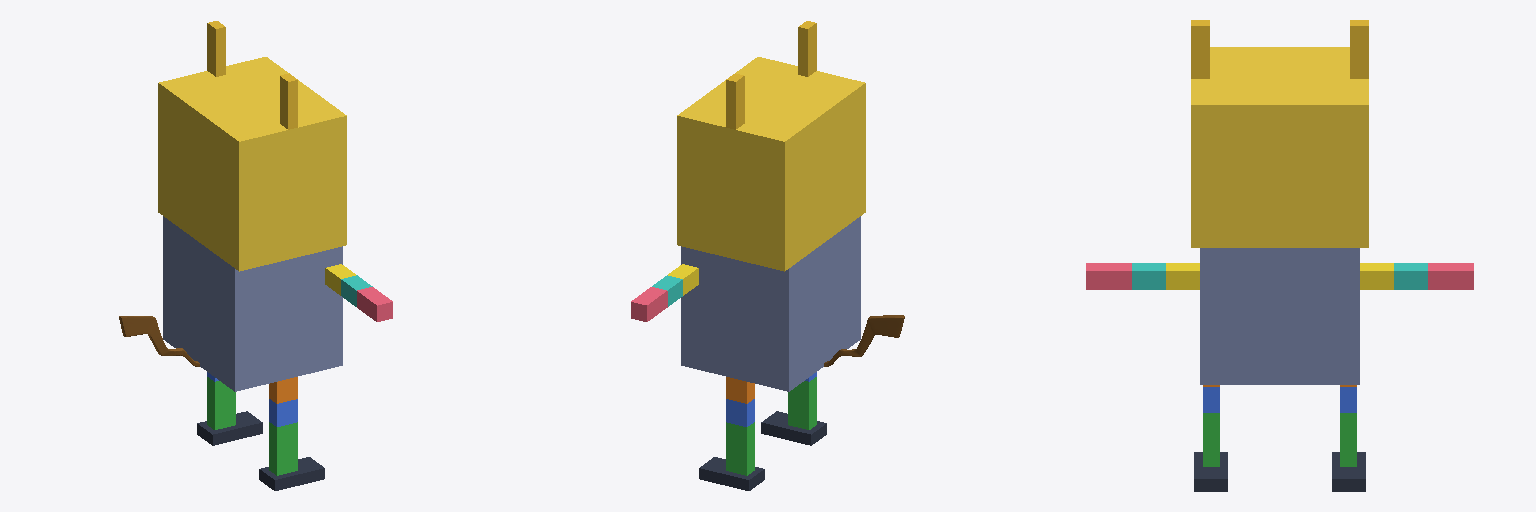
robot.urdf — pikachu_sample_links:
<?xml version="1.0" ?>
<!-- =================================================================================== -->
<!-- |    This document was autogenerated by xacro from pikachu_sample_links_27dof.xacro | -->
<!-- |    EDITING THIS FILE BY HAND IS NOT RECOMMENDED                                 | -->
<!-- =================================================================================== -->
<!-- ============================================================================
  Pikachu_V025 简化模型 —— 纯 box 连杆，无 mesh
  ============================================================================
  · 层级、关节原点(xyz/rpy)、旋转轴 均严格对应 urdf/Pikachu_V025.urdf
  · 每个连杆用 <box> 表示，尺寸/偏移全部参数化，改顶部参数即可整体适配骨骼
  · 单位：米 (m)

  与原始 URDF 的对应总表：
    base_link           → 躯干
    left/right_hip_pitch→hip_roll   原点沿 y (横向) 偏移 hip_pitch_to_roll_y
    left/right_hip_roll →hip_yaw    原点沿 -z 偏移 hip_roll_to_yaw_z
    left/right_hip_yaw  →knee       原点沿 -z 偏移 thigh_length   （大腿）
    left/right_knee     →ankle      原点沿 -z 偏移 shank_length   （小腿）
    left/right_arm_pitch→roll       可动(revolute)，沿 y 偏移 arm_pitch_to_roll_y
    left/right_arm_roll →yaw        可动(revolute)，沿 -z 偏移 arm_upper_z
    left/right_arm_yaw  →elbow      可动(revolute)，沿 -z 偏移 arm_lower_z
    base_link → head_pitch→yaw→roll 头部三段(3 DOF：pitch点头 / yaw转头 / roll歪头)，
                                    立在躯干顶 shoulder_height 之上
    head_roll_link → 左/右耳  ear_pitch→ear_roll（每耳 2 DOF，头顶两侧）
    base_link → 尾巴         tail_pitch→tail_yaw（2 DOF，躯干背面伸出）


    工程测量定义（零位 / T-pose，不用 box 对角线代替关节轴距）：
      M01 耳高：       base_link 原点→ear_pitch 轴的 z 差       = 0.449 (=0.166+0.283)
      M02 耳半宽：     中心 z 轴→ear_pitch 轴的 |y|             = 0.116
      M03 头轴高：     base_link 原点→head_pitch 轴的 z 差      = 0.219 (=0.166+0.053)
      M04 肩半宽：     中心 z 轴→arm_pitch/arm_roll 共点的 |y| = 0.116
      M05 手臂前向偏置：腿关节平面→肩关节平面的 x 差          = 0.083
      M06 大臂长：     arm_pitch/arm_roll 共点→elbow 轴的欧氏距离 = 0.100
      M07 小臂长：     elbow 轴→elbow_link 几何远端             = 0.066
      M08 髋半宽：     中心 z 轴→hip_roll 轴的 |y|              = 0.100
      M09 躯干长：     hip_pitch 轴→arm_pitch 轴的 z 差          = 0.166
      M10 大腿长：     hip_pitch 轴→knee 轴的 z 差               = 0.083
      M11 小腿长：     knee 轴→ankle 轴的 z 差                  = 0.086
      M12 脚长：       ankle_link 的 box x 边长                       = 0.093
      M13 尾轴高：     ankle 轴→tail_pitch 轴的 z 差             = 0.166
      M14 尾部偏置：   腿关节平面→tail box 中心的 |x|              = 0.143

    上述 14 项由 measure_* 主参数唯一驱动；tuner 按同一定义实测并做容差闭环。

    DOF 合计：腿 10 + 臂 8 + 头 3 + 耳 4 + 尾 2 = 27
    注：臂 pitch/roll/yaw/elbow 与 head 原本为 fixed，这里改成 revolute 以便驱动；
        限位由 arm_lim_* / head_lim_* 控制。
============================================================================ -->
<robot name="pikachu_sample_links">
  <!-- ============================================================ -->
  <!-- 材质定义（每段独立颜色，左右对称共用同一套）              -->
  <!-- ============================================================ -->
  <material name="torso_blue">
    <color rgba="0.55 0.60 0.75 1"/>
  </material>
  <material name="arm_pitch">
    <color rgba="0.75 0.35 1.00 1"/>
  </material>
  <material name="arm_roll">
    <color rgba="1.00 0.90 0.25 1"/>
  </material>
  <material name="arm_yaw">
    <color rgba="0.30 0.85 0.80 1"/>
  </material>
  <material name="arm_elbow">
    <color rgba="1.00 0.45 0.55 1"/>
  </material>
  <material name="leg_hip_pitch">
    <color rgba="0.90 0.35 0.80 1"/>
  </material>
  <material name="leg_hip_roll">
    <color rgba="1.00 0.60 0.20 1"/>
  </material>
  <material name="leg_hip_yaw">
    <color rgba="0.35 0.55 1.00 1"/>
  </material>
  <material name="leg_knee">
    <color rgba="0.30 0.80 0.35 1"/>
  </material>
  <material name="leg_ankle">
    <color rgba="0.25 0.28 0.35 1"/>
  </material>
  <material name="head_yellow">
    <color rgba="0.98 0.85 0.30 1"/>
  </material>
  <material name="ear_yellow">
    <color rgba="0.95 0.78 0.25 1"/>
  </material>
  <material name="tail_brown">
    <color rgba="0.55 0.38 0.18 1"/>
  </material>
  <!-- ============================================================ -->
  <!-- base_link：躯干（含 4 个与躯干相连的 base 关节）           -->
  <!-- ============================================================ -->
  <link name="base_link">
    <visual>
      <origin rpy="0 0 0" xyz="0 0 0.1095"/>
      <geometry>
        <box size="0.2 0.232 0.219"/>
      </geometry>
      <material name="torso_blue"/>
    </visual>
    <collision>
      <origin rpy="0 0 0" xyz="0 0 0.1095"/>
      <geometry>
        <box size="0.2 0.232 0.219"/>
      </geometry>
    </collision>
  </link>
  <!-- ============================================================ -->
  <!-- 头部：pitch → yaw → roll 三段关节（原 head_joint 拆成 3 DOF）  -->
  <!--   三段共用 head_lim_* 限位；头大 box 挂在末端 head_roll_link -->
  <!-- ============================================================ -->
  <joint name="head_pitch_joint" type="revolute">
    <origin rpy="0 0 0" xyz="0 0 0.219"/>
    <parent link="base_link"/>
    <child link="head_pitch_link"/>
    <axis xyz="0 1 0"/>
    <limit effort="2.0" lower="-0.8" upper="0.8" velocity="2"/>
  </joint>
  <!-- head_pitch_link：空连杆（无 box，仅作 pitch→yaw 两级 DOF 的中继） -->
  <link name="head_pitch_link">
    <collision>
      <origin rpy="0 0 0" xyz="0 0 0"/>
      <geometry>
        <box size="0.004 0.004 0.004"/>
      </geometry>
    </collision>
  </link>
  <joint name="head_yaw_joint" type="revolute">
    <origin rpy="0 0 0" xyz="0 0 0"/>
    <parent link="head_pitch_link"/>
    <child link="head_yaw_link"/>
    <axis xyz="0 0 1"/>
    <limit effort="2.0" lower="-0.8" upper="0.8" velocity="2"/>
  </joint>
  <link name="head_yaw_link">
    <collision>
      <origin rpy="0 0 0" xyz="0 0 0"/>
      <geometry>
        <box size="0.004 0.004 0.004"/>
      </geometry>
    </collision>
  </link>
  <joint name="head_roll_joint" type="revolute">
    <origin rpy="0 0 0" xyz="0 0 0"/>
    <parent link="head_yaw_link"/>
    <child link="head_roll_link"/>
    <axis xyz="1 0 0"/>
    <limit effort="2.0" lower="-0.8" upper="0.8" velocity="2"/>
  </joint>
  <!-- head_roll_link：实心头（原 head_link 大 box，末端） -->
  <link name="head_roll_link">
    <visual>
      <origin rpy="0 0 0" xyz="0 0 0.115"/>
      <geometry>
        <box size="0.2 0.26 0.23"/>
      </geometry>
      <material name="head_yellow"/>
    </visual>
    <collision>
      <origin rpy="0 0 0" xyz="0 0 0.115"/>
      <geometry>
        <box size="0.2 0.26 0.23"/>
      </geometry>
    </collision>
  </link>
  <!-- 左耳 / 右耳 pitch：head_roll_link → 耳（roll 由 ear_links 宏生成） -->
  <joint name="left_ear_pitch_joint" type="revolute">
    <origin rpy="0 0 0" xyz="0 0.116 0.23"/>
    <parent link="head_roll_link"/>
    <child link="left_ear_pitch_link"/>
    <axis xyz="0 1 0"/>
    <limit effort="1.0" lower="-0.6" upper="0.8" velocity="2"/>
  </joint>
  <joint name="right_ear_pitch_joint" type="revolute">
    <origin rpy="0 0 0" xyz="0 -0.116 0.23"/>
    <parent link="head_roll_link"/>
    <child link="right_ear_pitch_link"/>
    <axis xyz="0 1 0"/>
    <limit effort="1.0" lower="-0.6" upper="0.8" velocity="2"/>
  </joint>
  <!-- ============================================================ -->
  <!-- 尾巴：tail_pitch → tail_yaw 两关节（躯干背面伸出）             -->
  <!-- ============================================================ -->
  <joint name="tail_pitch_joint" type="revolute">
    <origin rpy="0 0 0" xyz="-0.09549999999999999 0 -0.002999999999999975"/>
    <parent link="base_link"/>
    <child link="tail_pitch_link"/>
    <axis xyz="0 1 0"/>
    <limit effort="2.0" lower="-1.2" upper="1.2" velocity="2"/>
  </joint>
  <!-- tail_pitch_link：空连杆（无 box，仅作两个 DOF 的中继节点，位于尾根） -->
  <link name="tail_pitch_link">
    <collision>
      <origin rpy="0 0 0" xyz="0 0 0"/>
      <geometry>
        <box size="0.004 0.004 0.004"/>
      </geometry>
    </collision>
  </link>
  <joint name="tail_yaw_joint" type="revolute">
    <origin rpy="0 0 0" xyz="0 0 0"/>
    <parent link="tail_pitch_link"/>
    <child link="tail_yaw_link"/>
    <axis xyz="0 0 1"/>
    <limit effort="2.0" lower="-1.2" upper="1.2" velocity="2"/>
  </joint>
  <!-- tail_yaw_link：视觉用 STL mesh（尾造型）；碰撞仍用 box（tail_len×tail_wid×tail_thick） -->
  <link name="tail_yaw_link">
    <visual>
      <origin rpy="0 0 1.57" xyz="-0.07 0 0"/>
      <geometry>
        <mesh filename="meshes/pikachu_skin_self_rig_mesh_T3Plane-edited.stl"/>
      </geometry>
      <material name="tail_brown"/>
    </visual>
    <collision>
      <origin rpy="0 0 0" xyz="-0.0475 0 0"/>
      <geometry>
        <box size="0.095 0.05 0.02"/>
      </geometry>
    </collision>
  </link>
  <!-- 髋 pitch：型→left_hip_pitch_link / right_hip_pitch_link -->
  <joint name="left_hip_pitch_joint" type="revolute">
    <origin rpy="0 0 0" xyz="0 0.0645 0"/>
    <parent link="base_link"/>
    <child link="left_hip_pitch_link"/>
    <axis xyz="0 -1 0"/>
    <limit effort="12.5" lower="0" upper="2.44" velocity="2"/>
  </joint>
  <joint name="right_hip_pitch_joint" type="revolute">
    <origin rpy="0 0 0" xyz="0 -0.0645 0"/>
    <parent link="base_link"/>
    <child link="right_hip_pitch_link"/>
    <axis xyz="0 -1 0"/>
    <limit effort="12.5" lower="0" upper="2.44" velocity="2"/>
  </joint>
  <!-- 臂 pitch：型→left/right_arm_pitch_link（固定，抬升 shoulder_height） -->
  <joint name="left_arm_pitch_joint" type="revolute">
    <origin rpy="0 0 0" xyz="0.083 0.116 0.166"/>
    <parent link="base_link"/>
    <child link="left_arm_pitch_link"/>
    <axis xyz="0 -1 0"/>
    <limit effort="2.0" lower="-1.57" upper="1.57" velocity="2"/>
  </joint>
  <joint name="right_arm_pitch_joint" type="revolute">
    <origin rpy="0 0 0" xyz="0.083 -0.116 0.166"/>
    <parent link="base_link"/>
    <child link="right_arm_pitch_link"/>
    <axis xyz="0 -1 0"/>
    <limit effort="2.0" lower="-1.57" upper="1.57" velocity="2"/>
  </joint>
  <!-- hip_pitch_link：覆盖到 roll 的横向(y)段 -->
  <link name="left_hip_pitch_link">
    <visual>
      <origin rpy="0 0 0" xyz="0 0.01775 0"/>
      <geometry>
        <box size="0.04 0.0355 0.025"/>
      </geometry>
      <material name="leg_hip_pitch"/>
    </visual>
    <collision>
      <origin rpy="0 0 0" xyz="0 0.01775 0"/>
      <geometry>
        <box size="0.04 0.0355 0.025"/>
      </geometry>
    </collision>
  </link>
  <joint name="left_hip_roll_joint" type="revolute">
    <origin rpy="0 0 0" xyz="0 0.0355 0"/>
    <parent link="left_hip_pitch_link"/>
    <child link="left_hip_roll_link"/>
    <axis xyz="1 0 0"/>
    <limit effort="9.0" lower="-0.09" upper="0.26" velocity="1"/>
  </joint>
  <!-- hip_roll_link：覆盖到 yaw 的 -z 骨盆段 -->
  <link name="left_hip_roll_link">
    <visual>
      <origin rpy="0 0 0" xyz="0 0 -0.02075"/>
      <geometry>
        <box size="0.04 0.025 0.0415"/>
      </geometry>
      <material name="leg_hip_roll"/>
    </visual>
    <collision>
      <origin rpy="0 0 0" xyz="0 0 -0.02075"/>
      <geometry>
        <box size="0.04 0.025 0.0415"/>
      </geometry>
    </collision>
  </link>
  <joint name="left_hip_yaw_joint" type="revolute">
    <origin rpy="0 0 0" xyz="0 0 -0.0415"/>
    <parent link="left_hip_roll_link"/>
    <child link="left_hip_yaw_link"/>
    <axis xyz="0 0 1"/>
    <limit effort="9.0" lower="-0.09" upper="0.26" velocity="1"/>
  </joint>
  <!-- hip_yaw_link：大腿段（thigh_length） -->
  <link name="left_hip_yaw_link">
    <visual>
      <origin rpy="0 0 0" xyz="0 0 -0.02075"/>
      <geometry>
        <box size="0.04 0.025 0.0415"/>
      </geometry>
      <material name="leg_hip_yaw"/>
    </visual>
    <collision>
      <origin rpy="0 0 0" xyz="0 0 -0.02075"/>
      <geometry>
        <box size="0.04 0.025 0.0415"/>
      </geometry>
    </collision>
  </link>
  <joint name="left_knee_joint" type="revolute">
    <origin rpy="0 0 0" xyz="0 0 -0.0415"/>
    <parent link="left_hip_yaw_link"/>
    <child link="left_knee_link"/>
    <axis xyz="0 1 0"/>
    <limit effort="12.5" lower="0" upper="1.57" velocity="3"/>
  </joint>
  <!-- knee_link：小腿段（shank_length） -->
  <link name="left_knee_link">
    <visual>
      <origin rpy="0 0 0" xyz="0 0 -0.043"/>
      <geometry>
        <box size="0.04 0.025 0.086"/>
      </geometry>
      <material name="leg_knee"/>
    </visual>
    <collision>
      <origin rpy="0 0 0" xyz="0 0 -0.043"/>
      <geometry>
        <box size="0.04 0.025 0.086"/>
      </geometry>
    </collision>
  </link>
  <joint name="left_ankle_joint" type="revolute">
    <origin rpy="0 0 0" xyz="0 0 -0.086"/>
    <parent link="left_knee_link"/>
    <child link="left_ankle_link"/>
    <axis xyz="0 -1 0"/>
    <limit effort="9.0" lower="-0.52" upper="1.05" velocity="2"/>
  </joint>
  <!-- ankle_link：脚掌（末端） -->
  <link name="left_ankle_link">
    <visual>
      <origin rpy="0 0 0" xyz="0.0155 0 -0.01"/>
      <geometry>
        <box size="0.093 0.05 0.02"/>
      </geometry>
      <material name="leg_ankle"/>
    </visual>
    <collision>
      <origin rpy="0 0 0" xyz="0.0155 0 -0.01"/>
      <geometry>
        <box size="0.093 0.05 0.02"/>
      </geometry>
    </collision>
  </link>
  <!-- hip_pitch_link：覆盖到 roll 的横向(y)段 -->
  <link name="right_hip_pitch_link">
    <visual>
      <origin rpy="0 0 0" xyz="0 -0.01775 0"/>
      <geometry>
        <box size="0.04 0.0355 0.025"/>
      </geometry>
      <material name="leg_hip_pitch"/>
    </visual>
    <collision>
      <origin rpy="0 0 0" xyz="0 -0.01775 0"/>
      <geometry>
        <box size="0.04 0.0355 0.025"/>
      </geometry>
    </collision>
  </link>
  <joint name="right_hip_roll_joint" type="revolute">
    <origin rpy="0 0 0" xyz="0 -0.0355 0"/>
    <parent link="right_hip_pitch_link"/>
    <child link="right_hip_roll_link"/>
    <axis xyz="-1 0 0"/>
    <limit effort="9.0" lower="-0.09" upper="0.26" velocity="1"/>
  </joint>
  <!-- hip_roll_link：覆盖到 yaw 的 -z 骨盆段 -->
  <link name="right_hip_roll_link">
    <visual>
      <origin rpy="0 0 0" xyz="0 0 -0.02075"/>
      <geometry>
        <box size="0.04 0.025 0.0415"/>
      </geometry>
      <material name="leg_hip_roll"/>
    </visual>
    <collision>
      <origin rpy="0 0 0" xyz="0 0 -0.02075"/>
      <geometry>
        <box size="0.04 0.025 0.0415"/>
      </geometry>
    </collision>
  </link>
  <joint name="right_hip_yaw_joint" type="revolute">
    <origin rpy="0 0 0" xyz="0 0 -0.0415"/>
    <parent link="right_hip_roll_link"/>
    <child link="right_hip_yaw_link"/>
    <axis xyz="0 0 -1"/>
    <limit effort="9.0" lower="-0.09" upper="0.26" velocity="1"/>
  </joint>
  <!-- hip_yaw_link：大腿段（thigh_length） -->
  <link name="right_hip_yaw_link">
    <visual>
      <origin rpy="0 0 0" xyz="0 0 -0.02075"/>
      <geometry>
        <box size="0.04 0.025 0.0415"/>
      </geometry>
      <material name="leg_hip_yaw"/>
    </visual>
    <collision>
      <origin rpy="0 0 0" xyz="0 0 -0.02075"/>
      <geometry>
        <box size="0.04 0.025 0.0415"/>
      </geometry>
    </collision>
  </link>
  <joint name="right_knee_joint" type="revolute">
    <origin rpy="0 0 0" xyz="0 0 -0.0415"/>
    <parent link="right_hip_yaw_link"/>
    <child link="right_knee_link"/>
    <axis xyz="0 1 0"/>
    <limit effort="12.5" lower="0" upper="1.57" velocity="3"/>
  </joint>
  <!-- knee_link：小腿段（shank_length） -->
  <link name="right_knee_link">
    <visual>
      <origin rpy="0 0 0" xyz="0 0 -0.043"/>
      <geometry>
        <box size="0.04 0.025 0.086"/>
      </geometry>
      <material name="leg_knee"/>
    </visual>
    <collision>
      <origin rpy="0 0 0" xyz="0 0 -0.043"/>
      <geometry>
        <box size="0.04 0.025 0.086"/>
      </geometry>
    </collision>
  </link>
  <joint name="right_ankle_joint" type="revolute">
    <origin rpy="0 0 0" xyz="0 0 -0.086"/>
    <parent link="right_knee_link"/>
    <child link="right_ankle_link"/>
    <axis xyz="0 -1 0"/>
    <limit effort="9.0" lower="-0.52" upper="1.05" velocity="2"/>
  </joint>
  <!-- ankle_link：脚掌（末端） -->
  <link name="right_ankle_link">
    <visual>
      <origin rpy="0 0 0" xyz="0.0155 0 -0.01"/>
      <geometry>
        <box size="0.093 0.05 0.02"/>
      </geometry>
      <material name="leg_ankle"/>
    </visual>
    <collision>
      <origin rpy="0 0 0" xyz="0.0155 0 -0.01"/>
      <geometry>
        <box size="0.093 0.05 0.02"/>
      </geometry>
    </collision>
  </link>
  <!-- arm_pitch_link：pitch/roll 共点的关节标记 -->
  <link name="left_arm_pitch_link">
    <visual>
      <origin rpy="0 0 0" xyz="0 0.0 0"/>
      <geometry>
        <box size="0.004 0.004 0.004"/>
      </geometry>
      <material name="arm_pitch"/>
    </visual>
    <collision>
      <origin rpy="0 0 0" xyz="0 0.0 0"/>
      <geometry>
        <box size="0.004 0.004 0.004"/>
      </geometry>
    </collision>
  </link>
  <joint name="left_arm_roll_joint" type="revolute">
    <!-- pitch/roll 轴严格共点；rpy ±90° 使零位大臂沿 ±y 水平外展 -->
    <origin rpy="1.5707963267948966 0 0" xyz="0 0 0"/>
    <parent link="left_arm_pitch_link"/>
    <child link="left_arm_roll_link"/>
    <axis xyz="1 0 0"/>
    <limit effort="2.0" lower="-1.57" upper="1.57" velocity="2"/>
  </joint>
  <!-- arm_roll_link：上臂段（arm_upper_z） -->
  <link name="left_arm_roll_link">
    <visual>
      <origin rpy="0 0 0" xyz="0 0 -0.025"/>
      <geometry>
        <box size="0.03 0.03 0.05"/>
      </geometry>
      <material name="arm_roll"/>
    </visual>
    <collision>
      <origin rpy="0 0 0" xyz="0 0 -0.025"/>
      <geometry>
        <box size="0.03 0.03 0.05"/>
      </geometry>
    </collision>
  </link>
  <joint name="left_arm_yaw_joint" type="revolute">
    <origin rpy="0 0 0" xyz="0 0 -0.05"/>
    <parent link="left_arm_roll_link"/>
    <child link="left_arm_yaw_link"/>
    <axis xyz="0 0 1"/>
    <limit effort="2.0" lower="-1.57" upper="1.57" velocity="2"/>
  </joint>
  <!-- arm_yaw_link：下臂段（arm_lower_z） -->
  <link name="left_arm_yaw_link">
    <visual>
      <origin rpy="0 0 0" xyz="0 0 -0.025"/>
      <geometry>
        <box size="0.03 0.03 0.05"/>
      </geometry>
      <material name="arm_yaw"/>
    </visual>
    <collision>
      <origin rpy="0 0 0" xyz="0 0 -0.025"/>
      <geometry>
        <box size="0.03 0.03 0.05"/>
      </geometry>
    </collision>
  </link>
  <joint name="left_elbow_joint" type="revolute">
    <!-- rpy 清零：去除原折弯，默认手与前臂连成直线（展开） -->
    <origin rpy="0 0 0" xyz="0 0 -0.05"/>
    <parent link="left_arm_yaw_link"/>
    <child link="left_elbow_link"/>
    <axis xyz="0 -1 0"/>
    <limit effort="2.0" lower="-1.57" upper="1.57" velocity="2"/>
  </joint>
  <!-- elbow_link：手（末端） -->
  <link name="left_elbow_link">
    <visual>
      <origin rpy="0 0 0" xyz="0 0 -0.033"/>
      <geometry>
        <box size="0.03 0.03 0.066"/>
      </geometry>
      <material name="arm_elbow"/>
    </visual>
    <collision>
      <origin rpy="0 0 0" xyz="0 0 -0.033"/>
      <geometry>
        <box size="0.03 0.03 0.066"/>
      </geometry>
    </collision>
  </link>
  <!-- arm_pitch_link：pitch/roll 共点的关节标记 -->
  <link name="right_arm_pitch_link">
    <visual>
      <origin rpy="0 0 0" xyz="0 -0.0 0"/>
      <geometry>
        <box size="0.004 0.004 0.004"/>
      </geometry>
      <material name="arm_pitch"/>
    </visual>
    <collision>
      <origin rpy="0 0 0" xyz="0 -0.0 0"/>
      <geometry>
        <box size="0.004 0.004 0.004"/>
      </geometry>
    </collision>
  </link>
  <joint name="right_arm_roll_joint" type="revolute">
    <!-- pitch/roll 轴严格共点；rpy ±90° 使零位大臂沿 ±y 水平外展 -->
    <origin rpy="-1.5707963267948966 0 0" xyz="0 0 0"/>
    <parent link="right_arm_pitch_link"/>
    <child link="right_arm_roll_link"/>
    <axis xyz="-1 0 0"/>
    <limit effort="2.0" lower="-1.57" upper="1.57" velocity="2"/>
  </joint>
  <!-- arm_roll_link：上臂段（arm_upper_z） -->
  <link name="right_arm_roll_link">
    <visual>
      <origin rpy="0 0 0" xyz="0 0 -0.025"/>
      <geometry>
        <box size="0.03 0.03 0.05"/>
      </geometry>
      <material name="arm_roll"/>
    </visual>
    <collision>
      <origin rpy="0 0 0" xyz="0 0 -0.025"/>
      <geometry>
        <box size="0.03 0.03 0.05"/>
      </geometry>
    </collision>
  </link>
  <joint name="right_arm_yaw_joint" type="revolute">
    <origin rpy="0 0 0" xyz="0 0 -0.05"/>
    <parent link="right_arm_roll_link"/>
    <child link="right_arm_yaw_link"/>
    <axis xyz="0 0 -1"/>
    <limit effort="2.0" lower="-1.57" upper="1.57" velocity="2"/>
  </joint>
  <!-- arm_yaw_link：下臂段（arm_lower_z） -->
  <link name="right_arm_yaw_link">
    <visual>
      <origin rpy="0 0 0" xyz="0 0 -0.025"/>
      <geometry>
        <box size="0.03 0.03 0.05"/>
      </geometry>
      <material name="arm_yaw"/>
    </visual>
    <collision>
      <origin rpy="0 0 0" xyz="0 0 -0.025"/>
      <geometry>
        <box size="0.03 0.03 0.05"/>
      </geometry>
    </collision>
  </link>
  <joint name="right_elbow_joint" type="revolute">
    <!-- rpy 清零：去除原折弯，默认手与前臂连成直线（展开） -->
    <origin rpy="0 0 0" xyz="0 0 -0.05"/>
    <parent link="right_arm_yaw_link"/>
    <child link="right_elbow_link"/>
    <axis xyz="0 1 0"/>
    <limit effort="2.0" lower="-1.57" upper="1.57" velocity="2"/>
  </joint>
  <!-- elbow_link：手（末端） -->
  <link name="right_elbow_link">
    <visual>
      <origin rpy="0 0 0" xyz="0 0 -0.033"/>
      <geometry>
        <box size="0.03 0.03 0.066"/>
      </geometry>
      <material name="arm_elbow"/>
    </visual>
    <collision>
      <origin rpy="0 0 0" xyz="0 0 -0.033"/>
      <geometry>
        <box size="0.03 0.03 0.066"/>
      </geometry>
    </collision>
  </link>
  <!-- ear_pitch_link：空连杆（无 box，仅作两个 DOF 的中继节点，位于耳根） -->
  <link name="left_ear_pitch_link">
    <collision>
      <origin rpy="0 0 0" xyz="0 0 0"/>
      <geometry>
        <box size="0.004 0.004 0.004"/>
      </geometry>
    </collision>
  </link>
  <joint name="left_ear_roll_joint" type="revolute">
    <origin rpy="0 0 0" xyz="0 0 0"/>
    <parent link="left_ear_pitch_link"/>
    <child link="left_ear_roll_link"/>
    <!-- 轴改 x：真正绕前后横轴 roll（耳朵左右倒伏/张开）；原 0 0 z 是 yaw -->
    <axis xyz="1 0 0"/>
    <limit effort="1.0" lower="-0.6" upper="0.8" velocity="2"/>
  </joint>
  <!-- ear_roll_link：耳朵唯一 box，长度=耳全长 ear_len，从头顶竖直伸出 -->
  <link name="left_ear_roll_link">
    <visual>
      <origin rpy="0 0 0" xyz="0 0 0.0425"/>
      <geometry>
        <box size="0.018 0.028 0.085"/>
      </geometry>
      <material name="ear_yellow"/>
    </visual>
    <collision>
      <origin rpy="0 0 0" xyz="0 0 0.0425"/>
      <geometry>
        <box size="0.018 0.028 0.085"/>
      </geometry>
    </collision>
  </link>
  <!-- ear_pitch_link：空连杆（无 box，仅作两个 DOF 的中继节点，位于耳根） -->
  <link name="right_ear_pitch_link">
    <collision>
      <origin rpy="0 0 0" xyz="0 0 0"/>
      <geometry>
        <box size="0.004 0.004 0.004"/>
      </geometry>
    </collision>
  </link>
  <joint name="right_ear_roll_joint" type="revolute">
    <origin rpy="0 0 0" xyz="0 0 0"/>
    <parent link="right_ear_pitch_link"/>
    <child link="right_ear_roll_link"/>
    <!-- 轴改 x：真正绕前后横轴 roll（耳朵左右倒伏/张开）；原 0 0 z 是 yaw -->
    <axis xyz="1 0 0"/>
    <limit effort="1.0" lower="-0.6" upper="0.8" velocity="2"/>
  </joint>
  <!-- ear_roll_link：耳朵唯一 box，长度=耳全长 ear_len，从头顶竖直伸出 -->
  <link name="right_ear_roll_link">
    <visual>
      <origin rpy="0 0 0" xyz="0 0 0.0425"/>
      <geometry>
        <box size="0.018 0.028 0.085"/>
      </geometry>
      <material name="ear_yellow"/>
    </visual>
    <collision>
      <origin rpy="0 0 0" xyz="0 0 0.0425"/>
      <geometry>
        <box size="0.018 0.028 0.085"/>
      </geometry>
    </collision>
  </link>
</robot>

--- What the picture shows (computed from the rendered views, not written in the file) ---
3 views of the same robot in one strip: view 1: azimuth 30°, elevation 25°; view 2: azimuth 150°, elevation 25°; view 3: azimuth 270°, elevation 25° (orthographic).
Robot: pikachu_sample_links — 28 links, 27 joints (27 revolute); root link base_link; default pose: all joints at 0.
Links seen in each view (by area): view 1: head_roll_link, base_link, right_knee_link, left_knee_link, left_ankle_link, right_ankle_link, tail_yaw_link, left_ear_roll_link, right_ear_roll_link, right_elbow_link, right_hip_yaw_link, right_hip_roll_link; view 2: head_roll_link, base_link, left_knee_link, right_knee_link, right_ankle_link, left_ankle_link, tail_yaw_link, left_ear_roll_link, right_ear_roll_link, left_elbow_link, left_hip_yaw_link, left_hip_roll_link; view 3: head_roll_link, base_link, left_elbow_link, right_elbow_link, left_ear_roll_link, right_ear_roll_link, left_ankle_link, right_ankle_link, left_knee_link, right_knee_link, left_arm_roll_link, left_arm_yaw_link (+2 smaller).
Link boxes in pixels (bbox=[...]): head_roll_link: bbox=[158, 57, 346, 271]; base_link: bbox=[163, 216, 342, 391]; right_knee_link: bbox=[269, 422, 297, 475]; left_knee_link: bbox=[207, 377, 235, 429]; left_ankle_link: bbox=[197, 411, 262, 445]; right_ankle_link: bbox=[259, 457, 324, 490]; tail_yaw_link: bbox=[119, 316, 199, 366]; left_ear_roll_link: bbox=[207, 21, 225, 76]; right_ear_roll_link: bbox=[280, 73, 297, 129]; right_elbow_link: bbox=[357, 287, 392, 321]; right_hip_yaw_link: bbox=[269, 399, 297, 426]; right_hip_roll_link: bbox=[269, 377, 297, 403]; head_roll_link: bbox=[677, 57, 865, 271]; base_link: bbox=[681, 216, 860, 391]; left_knee_link: bbox=[726, 422, 754, 475]; right_knee_link: bbox=[788, 377, 816, 429]; right_ankle_link: bbox=[761, 411, 826, 445]; left_ankle_link: bbox=[699, 457, 764, 490]; tail_yaw_link: bbox=[824, 315, 904, 366]; left_ear_roll_link: bbox=[726, 73, 744, 129]; right_ear_roll_link: bbox=[798, 21, 816, 76]; left_elbow_link: bbox=[631, 287, 667, 321]; left_hip_yaw_link: bbox=[726, 399, 754, 426]; left_hip_roll_link: bbox=[726, 377, 754, 403]; head_roll_link: bbox=[1191, 47, 1368, 247]; base_link: bbox=[1200, 248, 1359, 384]; left_elbow_link: bbox=[1428, 263, 1473, 289]; right_elbow_link: bbox=[1086, 263, 1131, 289]; left_ear_roll_link: bbox=[1350, 20, 1368, 78]; right_ear_roll_link: bbox=[1191, 20, 1209, 78]; left_ankle_link: bbox=[1332, 452, 1365, 491]; right_ankle_link: bbox=[1194, 452, 1227, 491]; left_knee_link: bbox=[1340, 413, 1356, 466]; right_knee_link: bbox=[1203, 413, 1219, 466]; left_arm_roll_link: bbox=[1360, 263, 1393, 289]; left_arm_yaw_link: bbox=[1394, 263, 1427, 289].
Size in the robot's own frame: 0.3469 by 0.564 by 0.723 metres.
1 mesh visuals loaded from 1 distinct referenced files (1 binary STL).
